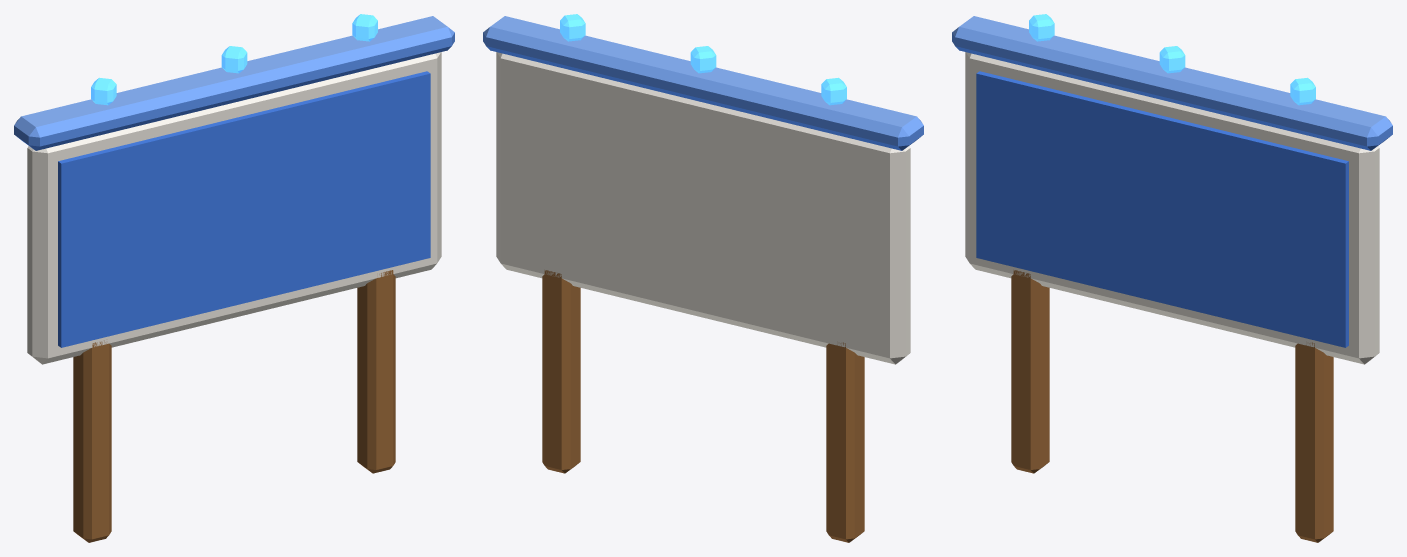
Rendered from OwnerBoard_4.glb.
3 views of the same model, side by side, from view 1: azimuth 30°, elevation 25°; view 2: azimuth 150°, elevation 25°; view 3: azimuth 330°, elevation 25° (orthographic).
Parts seen in each view (by area): view 1: OwnerBoard_4, OwnerBoard_4_Glow_acc4; view 2: OwnerBoard_4, OwnerBoard_4_Glow_acc4; view 3: OwnerBoard_4, OwnerBoard_4_Glow_acc4.
Part boxes in pixels (x1,y1,x2,y2): OwnerBoard_4: [14, 16, 454, 542]; OwnerBoard_4_Glow_acc4: [91, 14, 377, 105]; OwnerBoard_4: [483, 16, 923, 542]; OwnerBoard_4_Glow_acc4: [560, 14, 846, 105]; OwnerBoard_4: [952, 16, 1392, 542]; OwnerBoard_4_Glow_acc4: [1029, 14, 1315, 105].
Bounding box in the file's own units: 15 × 15.25 × 1.4.
2 materials, 1 textured.
